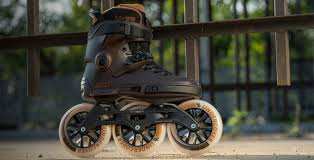roller_blate: (67, 7, 221, 153)
